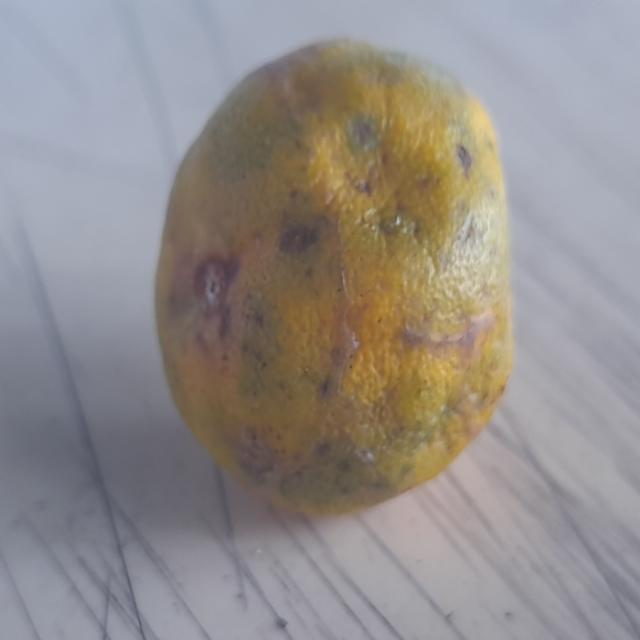black spot: (146, 31, 524, 525)
